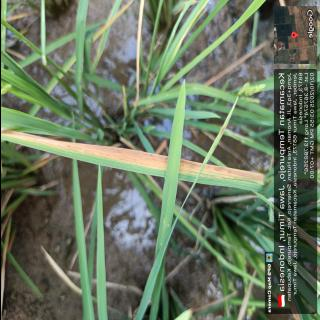Hawar-Daun: (0, 129, 264, 183)
